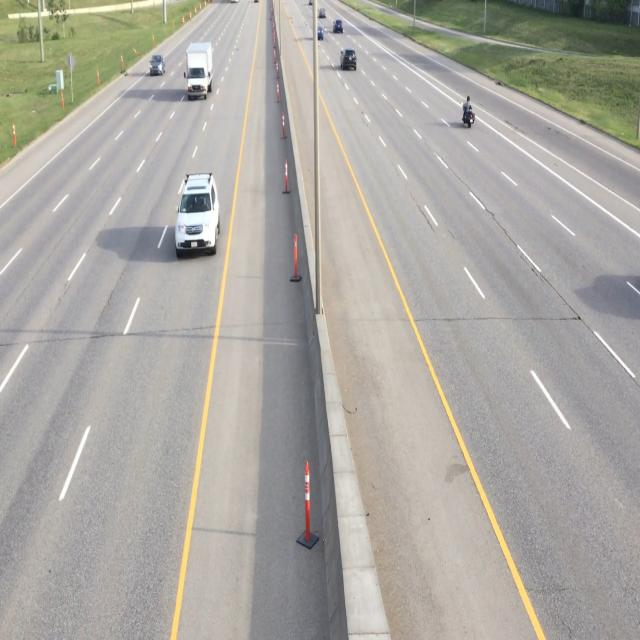Car: (177, 173, 220, 261), (185, 40, 214, 102), (340, 46, 360, 73), (149, 52, 167, 79), (333, 16, 344, 36)
